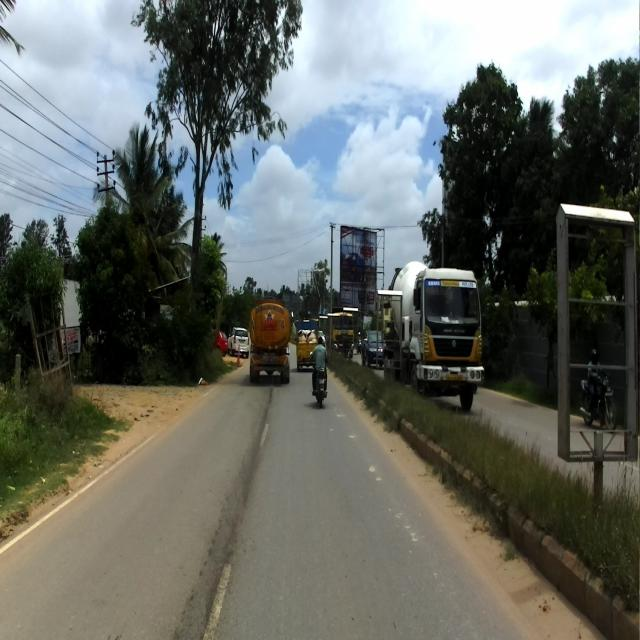motorcycle: (579, 372, 617, 432)
truck: (386, 262, 483, 415), (249, 298, 291, 381)
